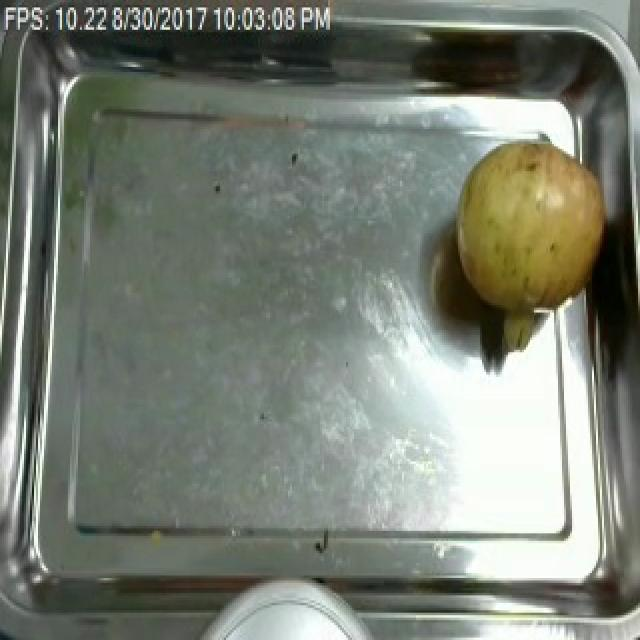fruit: (446, 131, 612, 340)
